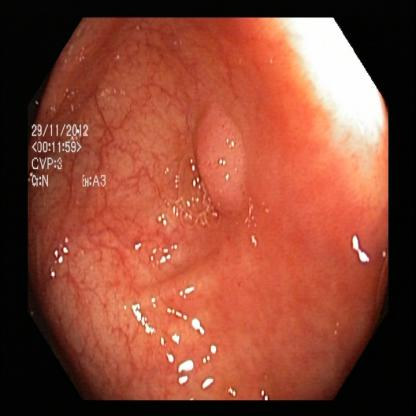Labels: (25, 118, 110, 195)
Polyps: (184, 116, 279, 230)
